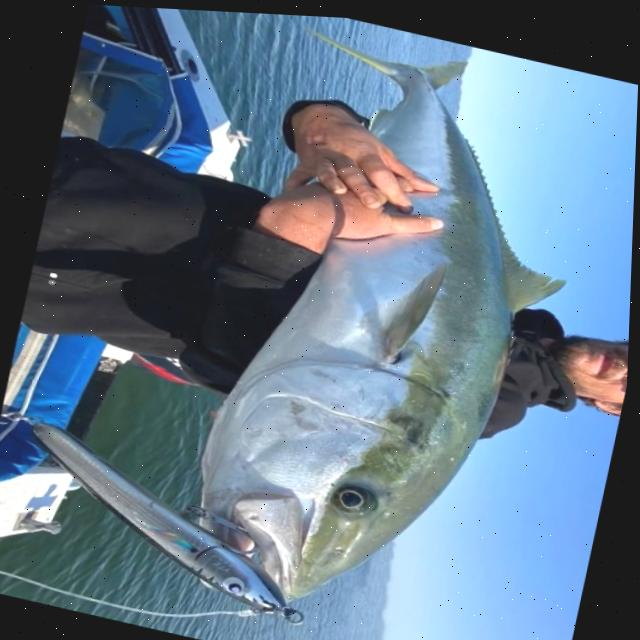Kingfish: (173, 12, 613, 640)
